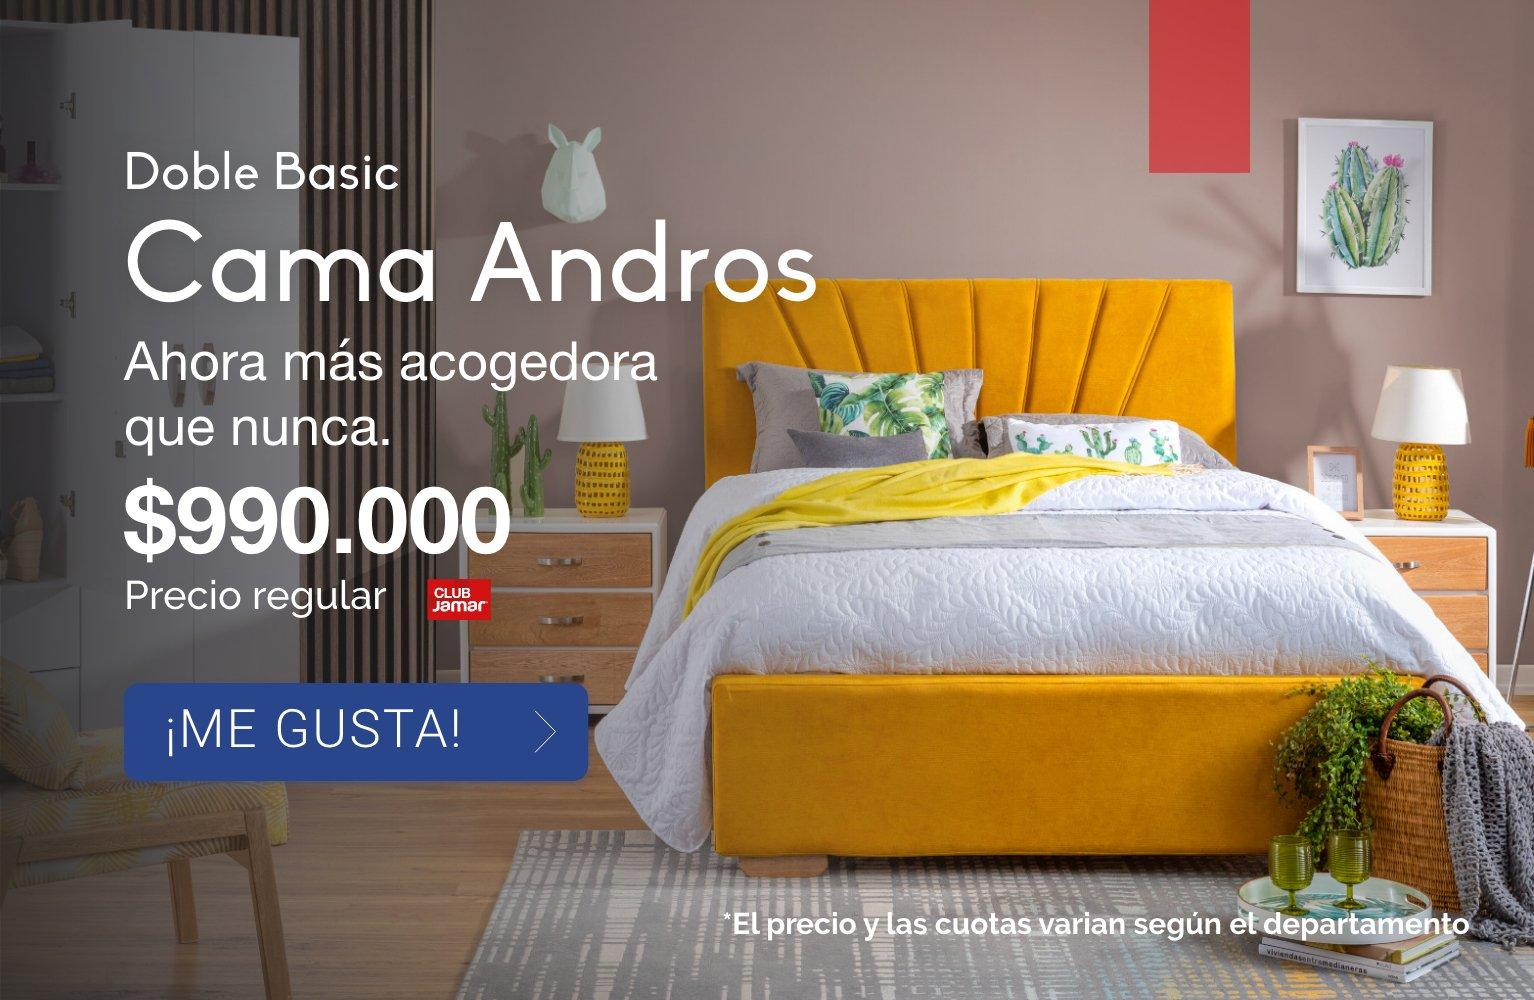bed: (688, 393, 1357, 826)
